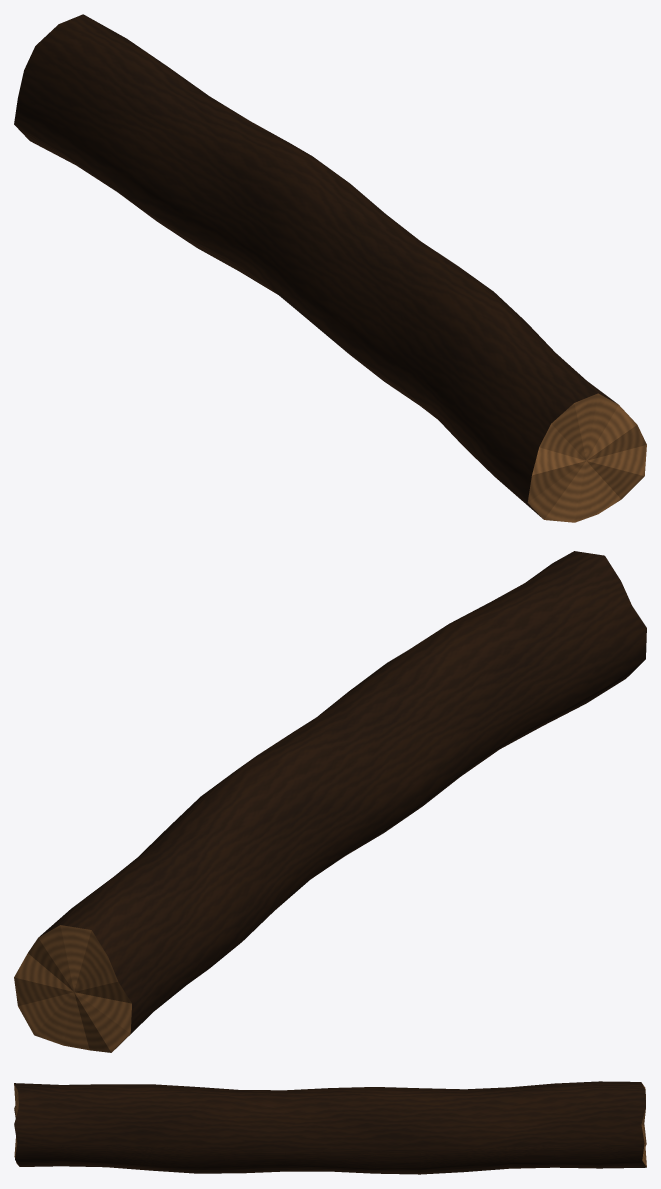
Rendered from SM_Firewood_03.fbx.
The picture shows the model from 3 angles, top to bottom: view 1: azimuth 30°, elevation 25°; view 2: azimuth 150°, elevation 25°; view 3: azimuth 270°, elevation 25°; orthographic projection. The views are drawn at different scales.
Visible parts, largest first — view 1: Firewood_Mesh; view 2: Firewood_Mesh; view 3: Firewood_Mesh.
Boxes of the visible parts, x1,y1,x2,y2 form: Firewood_Mesh: [14, 14, 646, 522]; Firewood_Mesh: [14, 551, 646, 1052]; Firewood_Mesh: [14, 1081, 646, 1174].
Bounding box in the file's own units: 0.0683 × 0.0578 × 0.4339.
2 materials, 2 textured.
